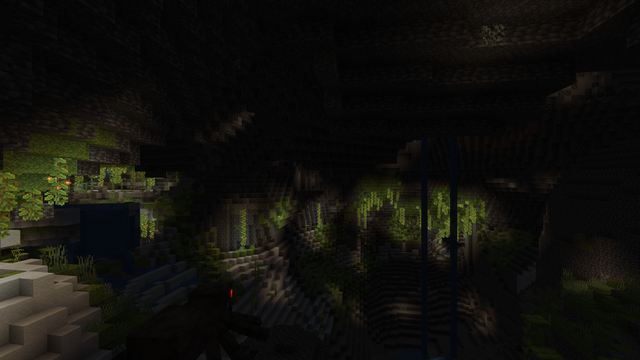araignees: (113, 274, 259, 358)
